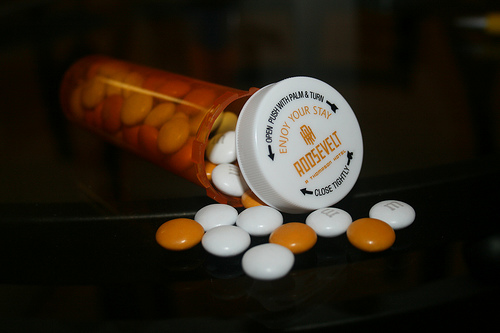pill bottle: (59, 51, 361, 216)
